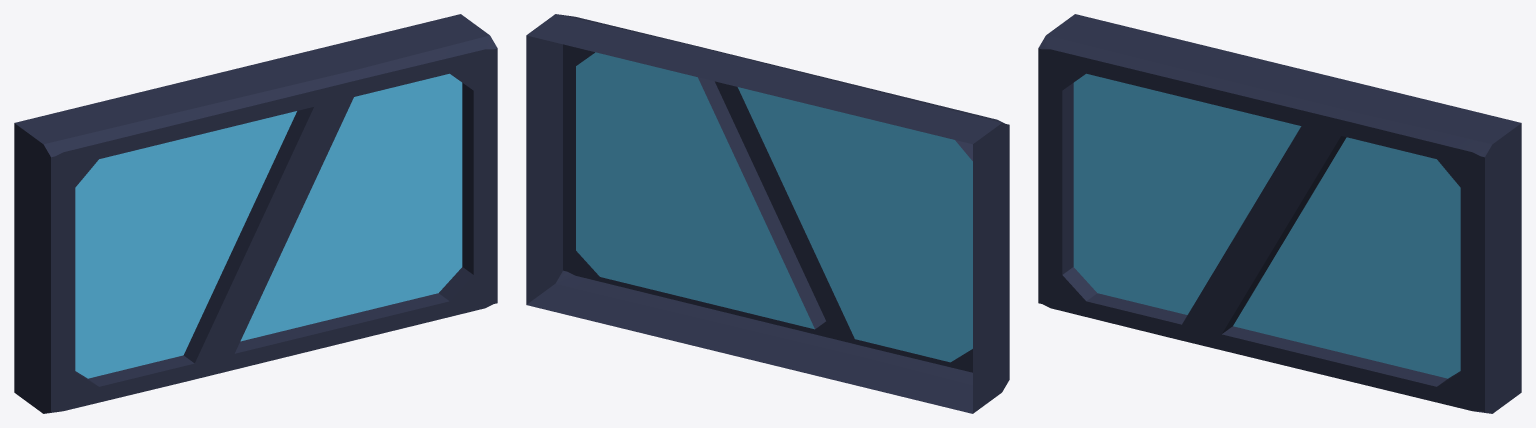
The model's file is Window_Big.fbx.
The picture shows the model from 3 angles, left to right: view 1: azimuth 30°, elevation 25°; view 2: azimuth 150°, elevation 25°; view 3: azimuth 330°, elevation 25°; orthographic projection.
Parts seen in each view (by area): view 1: Window_Big; view 2: Window_Big; view 3: Window_Big.
Boxes of the visible parts, bbox=[...] form: Window_Big: bbox=[14, 14, 497, 413]; Window_Big: bbox=[526, 14, 1009, 413]; Window_Big: bbox=[1038, 14, 1521, 413].
Size of the model in its own units: 625 by 361 by 89.45.
